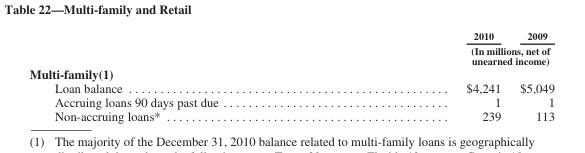table: (28, 29, 553, 122)
table column: (28, 29, 341, 122), (341, 29, 509, 122), (509, 29, 553, 122)
table column header: (28, 29, 553, 66)
table projected row header: (28, 66, 553, 80)
table row: (28, 42, 553, 66), (28, 66, 553, 80), (28, 80, 553, 94), (28, 94, 553, 108), (28, 108, 553, 122), (28, 29, 553, 42)
table spanning cell: (341, 42, 553, 66)
